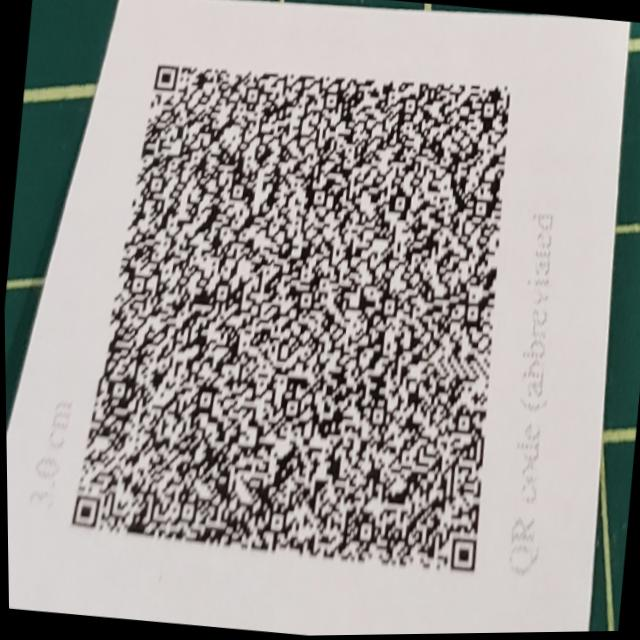QR_CODE: (48, 33, 545, 596)
